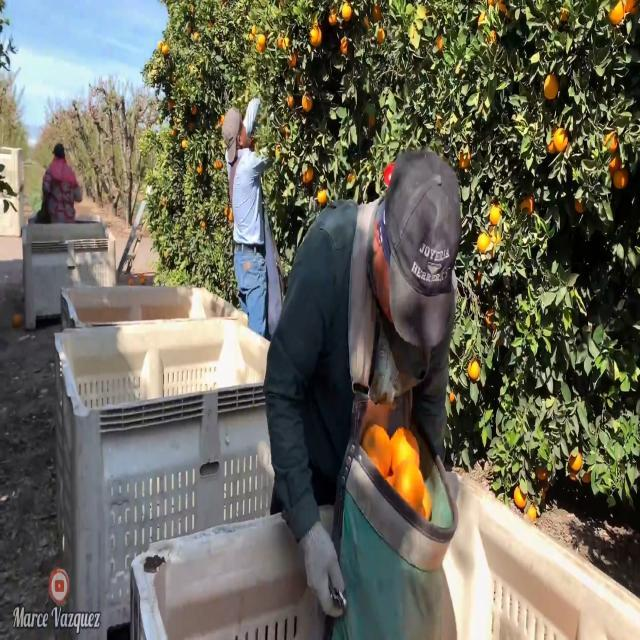Jeruk Sudah Matang: (550, 123, 570, 157), (540, 72, 562, 102), (306, 26, 328, 54), (300, 89, 312, 117), (339, 2, 354, 21)
